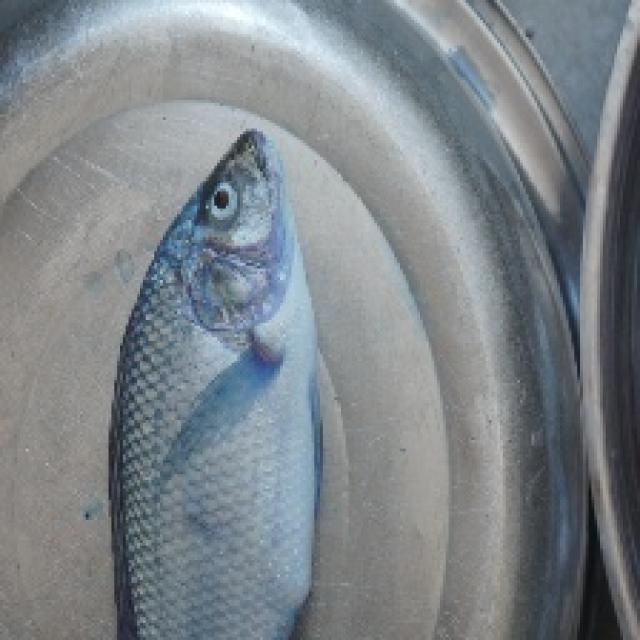Fresh: (92, 122, 400, 632)
